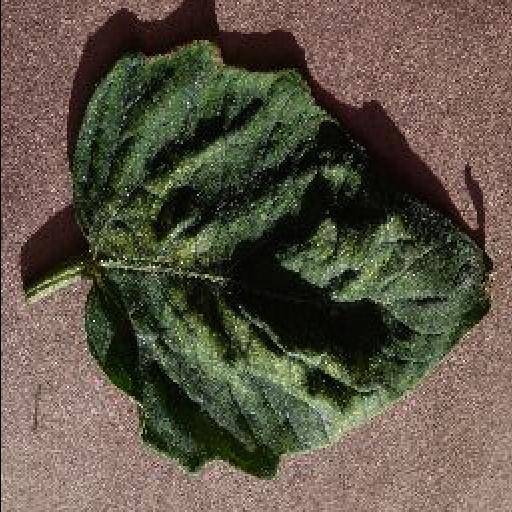disease_tomato: (68, 40, 494, 480)
